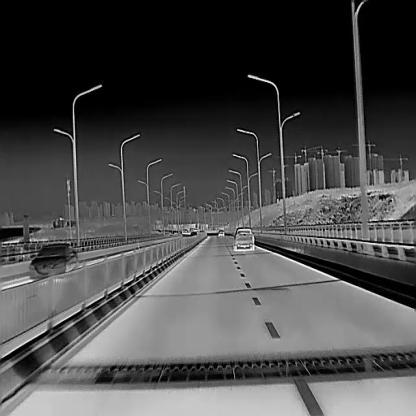car: (28, 241, 78, 278), (233, 227, 254, 250), (218, 229, 224, 237), (181, 228, 188, 233), (190, 230, 196, 235)
